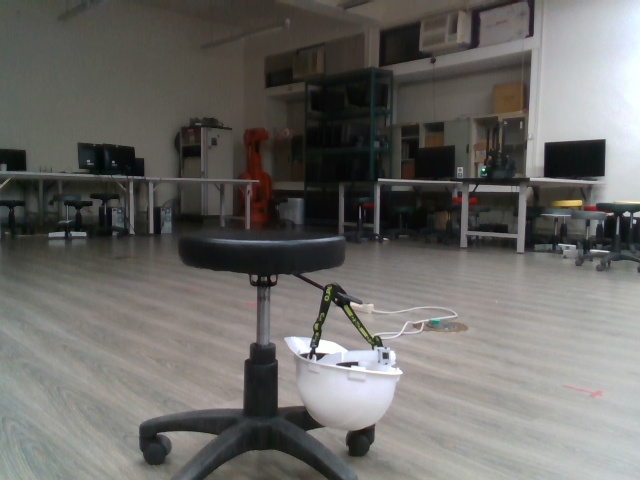helmet: (282, 333, 405, 433)
